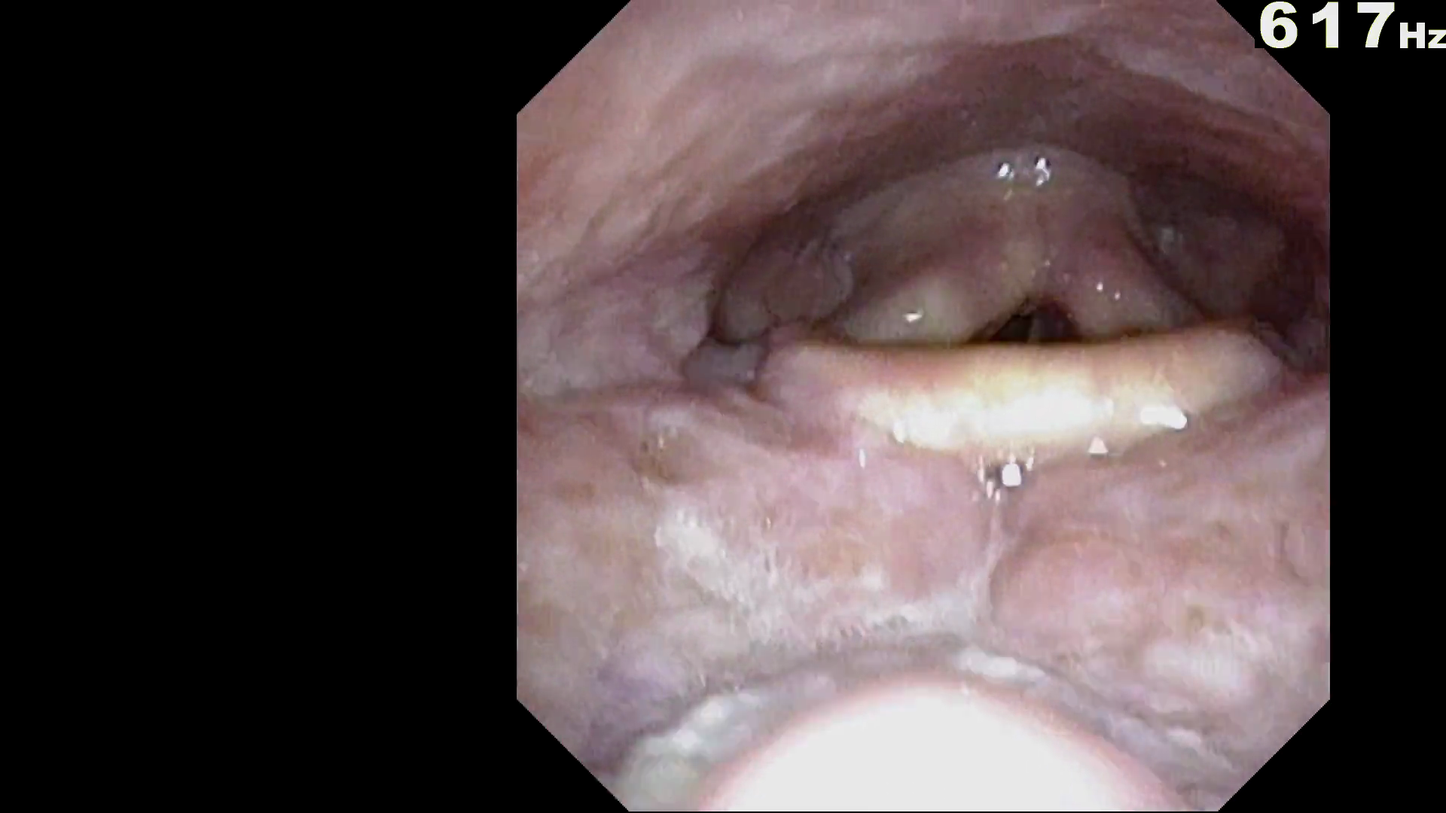epiglottis: (741, 294, 1290, 520)
